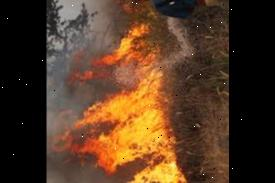fire: (46, 18, 194, 183)
